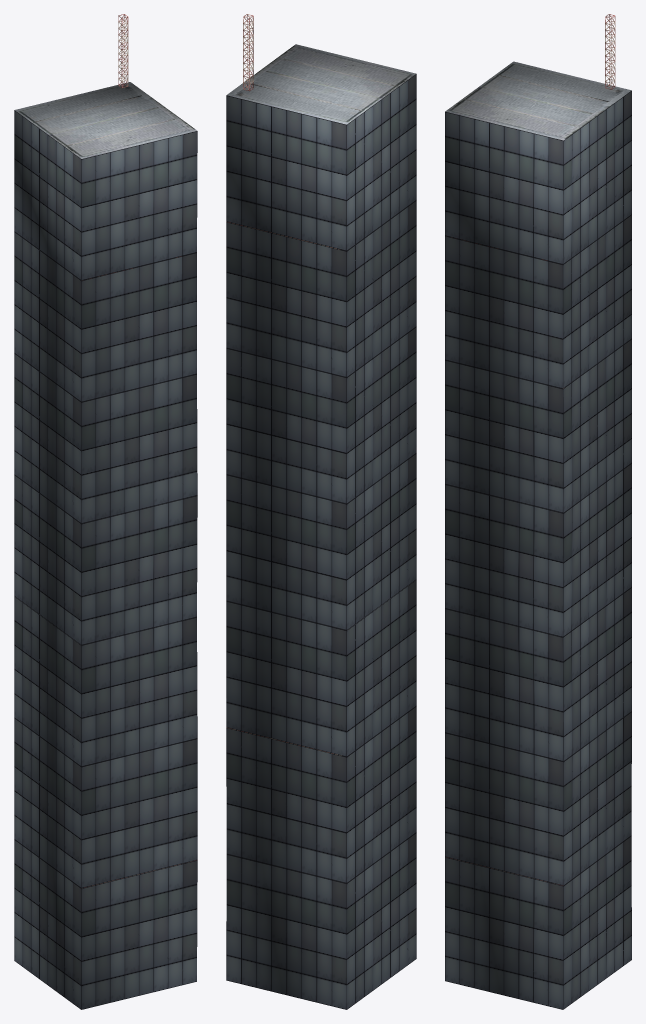
Rendered from building6.obj.
3 renders of one model, left to right at view 1: azimuth 30°, elevation 25°; view 2: azimuth 150°, elevation 25°; view 3: azimuth 330°, elevation 25°, orthographic. The views are drawn at different scales.
Size of the model in its own units: 15 by 114 by 15.
Materials: 1 (1 with a texture image).
